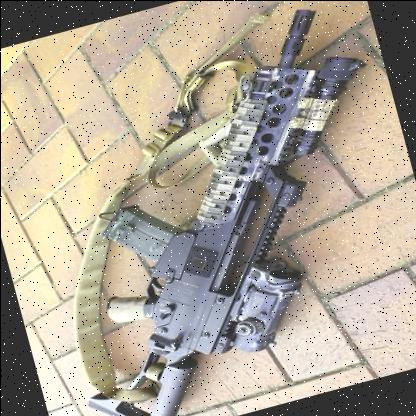rifle: (8, 14, 416, 416)
